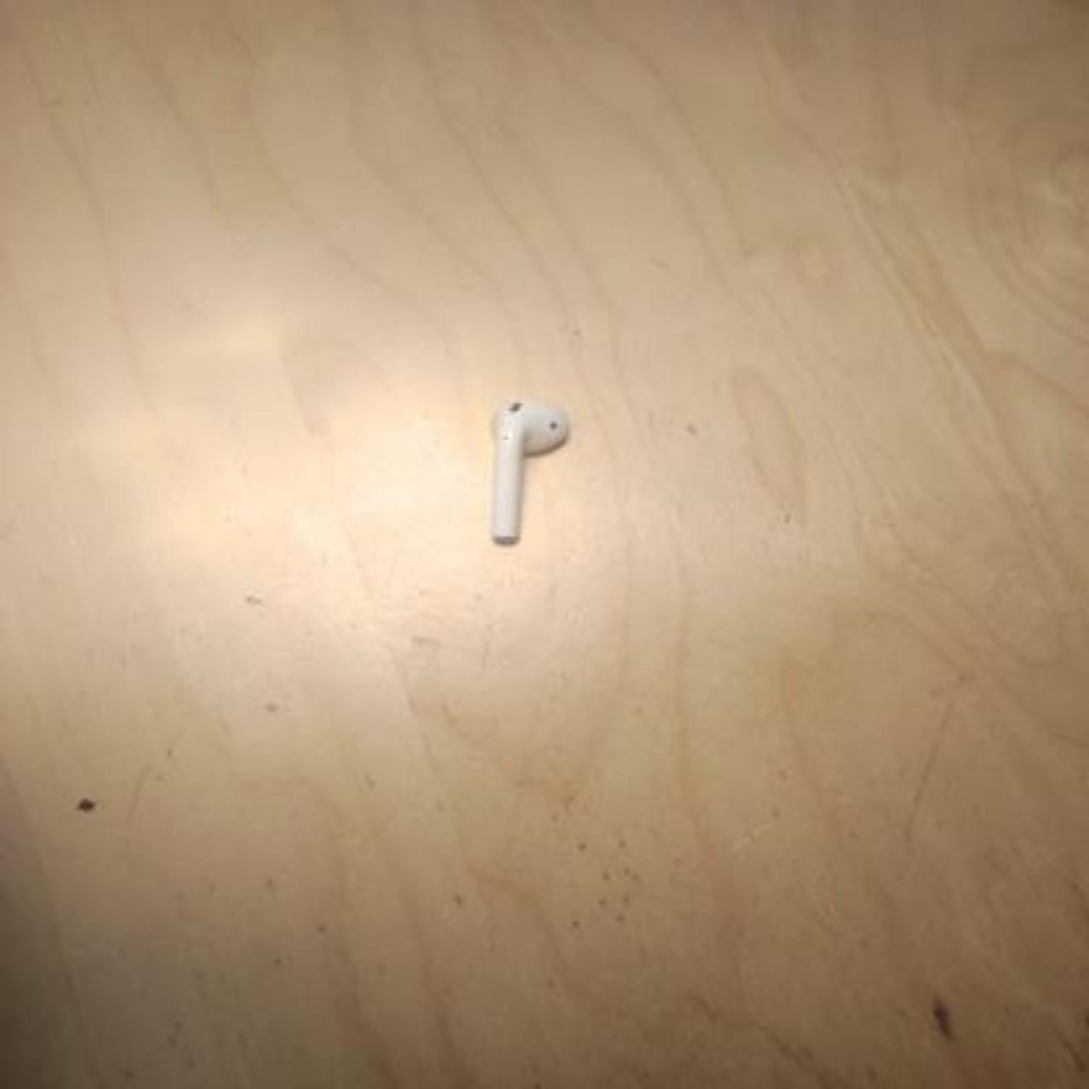Airpods_Units: (487, 400, 573, 544)
